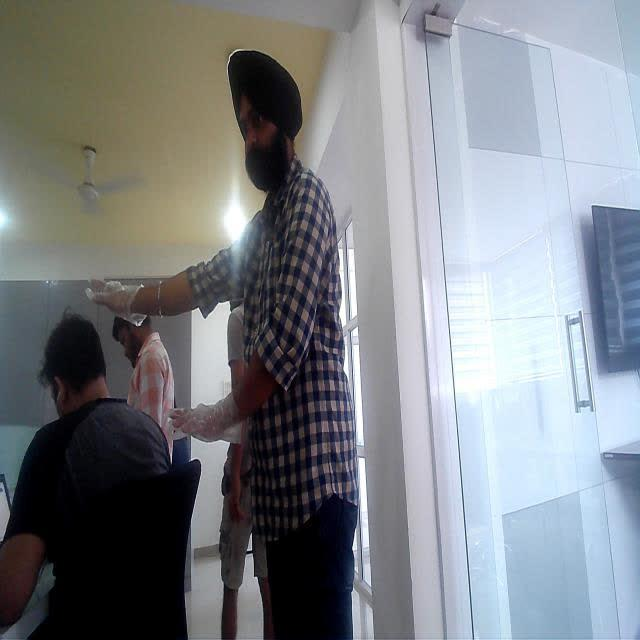with_gloves: (86, 270, 146, 331), (169, 384, 216, 436)
